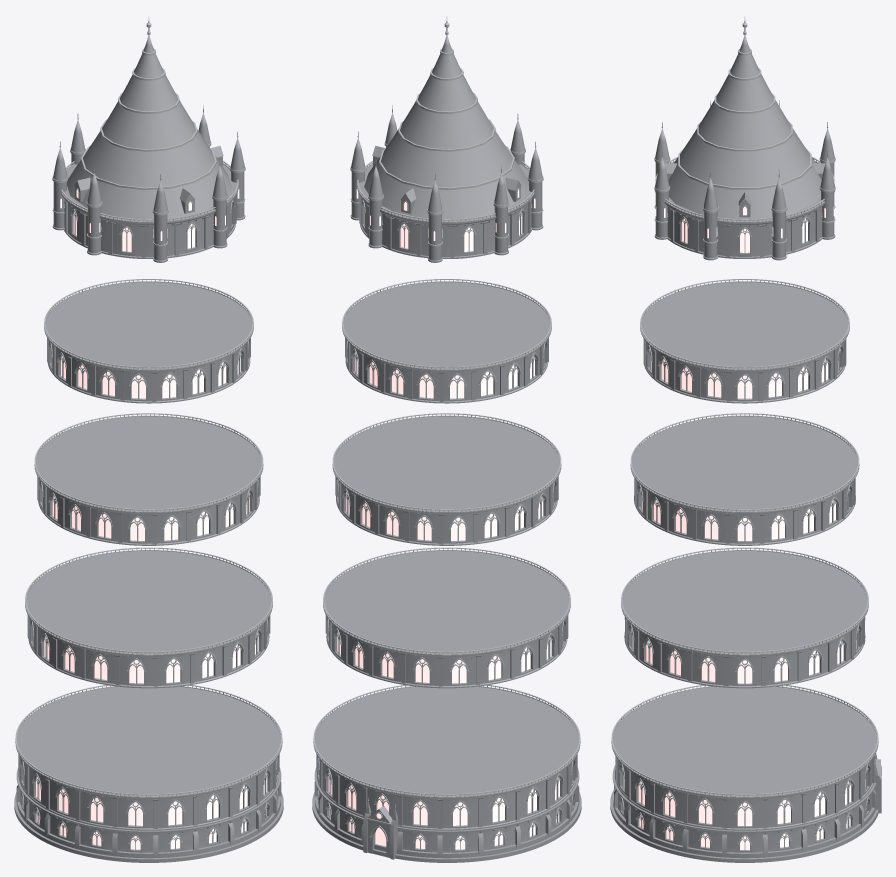
Rendered from GothicTowerRemodel.fbx.
The picture shows the model from 3 angles, left to right: view 1: azimuth 30°, elevation 25°; view 2: azimuth 150°, elevation 25°; view 3: azimuth 270°, elevation 25°; orthographic projection.
Visible parts, largest first — view 1: GT_Tier1_Stone, GT_Tier2_Stone, GT_Crown_Stone, GT_Tier3_Stone, GT_Tier4_Stone, GT_Base_Stone, GT_Tier2_Trim, GT_Tier1_Trim, GT_Crown_Trim, GT_Tier3_Trim, GT_Tier4_Trim, GT_Tier2_Glass (+6 smaller); view 2: GT_Tier1_Stone, GT_Tier2_Stone, GT_Crown_Stone, GT_Tier3_Stone, GT_Tier4_Stone, GT_Base_Stone, GT_Tier2_Trim, GT_Crown_Trim, GT_Tier1_Trim, GT_Tier3_Trim, GT_Tier4_Trim, GT_Tier2_Glass (+7 smaller); view 3: GT_Tier1_Stone, GT_Tier2_Stone, GT_Crown_Stone, GT_Tier3_Stone, GT_Tier4_Stone, GT_Base_Stone, GT_Tier2_Trim, GT_Tier1_Trim, GT_Tier3_Trim, GT_Crown_Trim, GT_Tier4_Trim, GT_Tier1_Glass (+5 smaller).
Boxes of the visible parts, bbox=[...] form: GT_Tier1_Stone: bbox=[15, 686, 282, 830]; GT_Tier2_Stone: bbox=[25, 551, 272, 688]; GT_Crown_Stone: bbox=[52, 35, 245, 262]; GT_Tier3_Stone: bbox=[34, 416, 263, 545]; GT_Tier4_Stone: bbox=[44, 282, 253, 403]; GT_Base_Stone: bbox=[14, 767, 283, 862]; GT_Tier2_Trim: bbox=[25, 547, 272, 683]; GT_Tier1_Trim: bbox=[15, 685, 282, 826]; GT_Crown_Trim: bbox=[52, 16, 245, 252]; GT_Tier3_Trim: bbox=[34, 413, 263, 541]; GT_Tier4_Trim: bbox=[44, 279, 253, 399]; GT_Tier2_Glass: bbox=[44, 636, 258, 683]; GT_Tier1_Stone: bbox=[313, 686, 580, 830]; GT_Tier2_Stone: bbox=[323, 551, 570, 688]; GT_Crown_Stone: bbox=[350, 35, 543, 262]; GT_Tier3_Stone: bbox=[332, 416, 561, 545]; GT_Tier4_Stone: bbox=[342, 282, 551, 403]; GT_Base_Stone: bbox=[312, 767, 581, 862]; GT_Tier2_Trim: bbox=[323, 547, 570, 683]; GT_Crown_Trim: bbox=[350, 16, 543, 252]; GT_Tier1_Trim: bbox=[313, 685, 580, 826]; GT_Tier3_Trim: bbox=[332, 413, 561, 541]; GT_Tier4_Trim: bbox=[342, 279, 551, 399]; GT_Tier2_Glass: bbox=[337, 636, 551, 683]; GT_Tier1_Stone: bbox=[611, 686, 878, 830]; GT_Tier2_Stone: bbox=[621, 551, 868, 688]; GT_Crown_Stone: bbox=[654, 35, 835, 260]; GT_Tier3_Stone: bbox=[630, 416, 859, 545]; GT_Tier4_Stone: bbox=[640, 282, 849, 403]; GT_Base_Stone: bbox=[610, 764, 878, 862]; GT_Tier2_Trim: bbox=[621, 547, 868, 684]; GT_Tier1_Trim: bbox=[611, 685, 878, 826]; GT_Tier3_Trim: bbox=[630, 413, 859, 541]; GT_Crown_Trim: bbox=[654, 16, 835, 252]; GT_Tier4_Trim: bbox=[640, 279, 849, 399]; GT_Tier1_Glass: bbox=[624, 780, 865, 825].
Size of the model in its own units: 678 by 2198 by 683.
